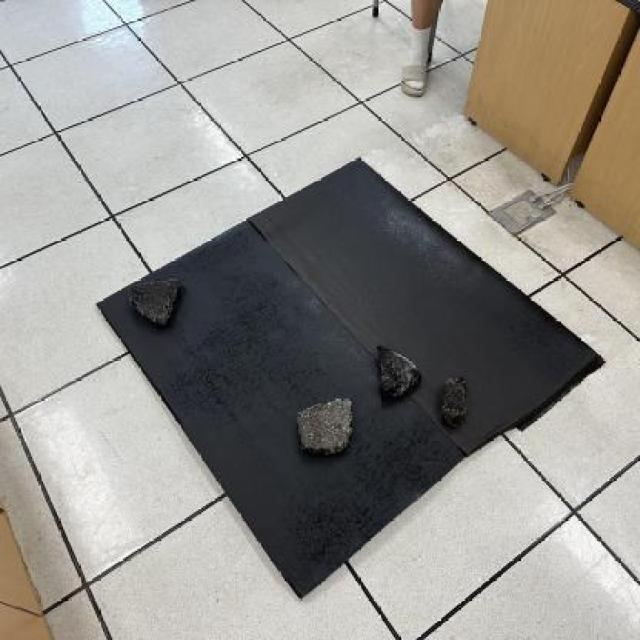Road Debris: (301, 400, 354, 457), (137, 278, 188, 324), (377, 347, 420, 395), (434, 377, 472, 428)
